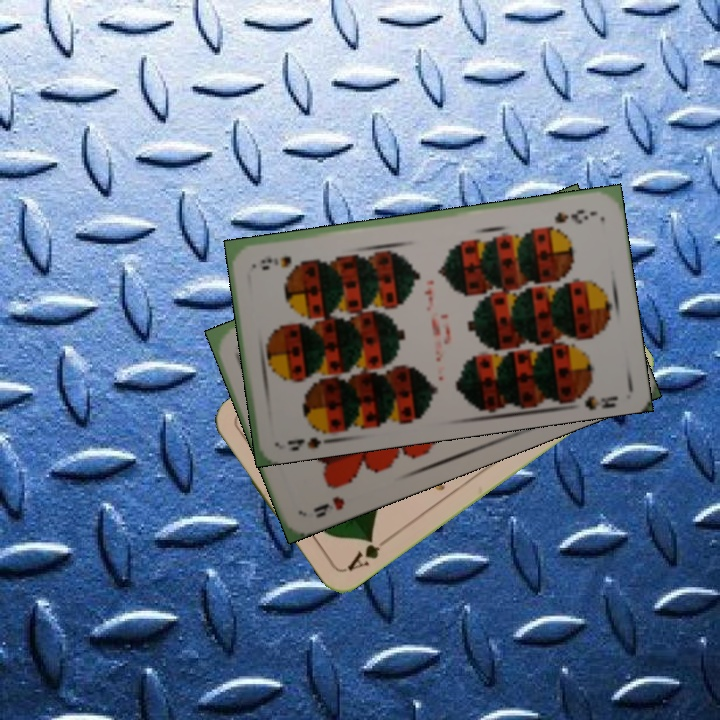GA: (342, 532, 394, 574)
H9: (309, 492, 347, 521)
S9: (283, 421, 338, 453), (550, 205, 591, 226)
